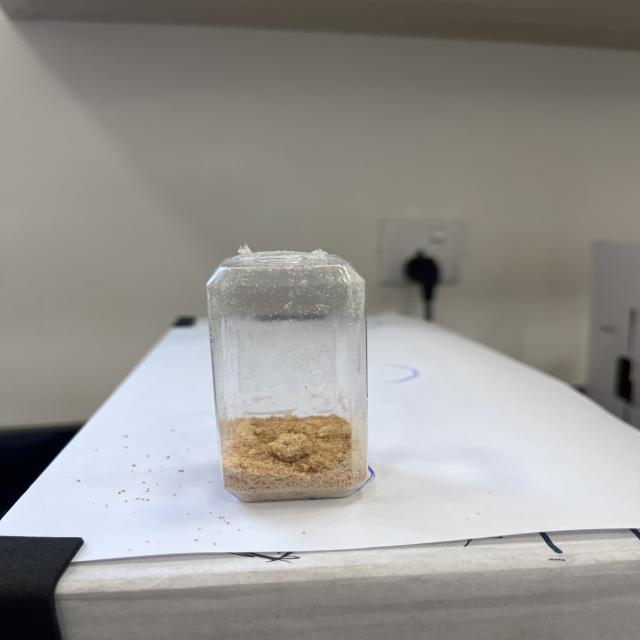garlic_powder: (216, 414, 365, 500)
